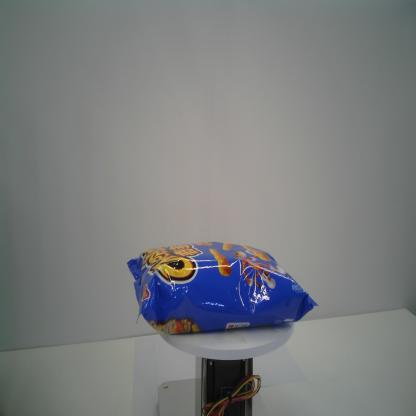Puffed Food: (124, 238, 318, 336)
